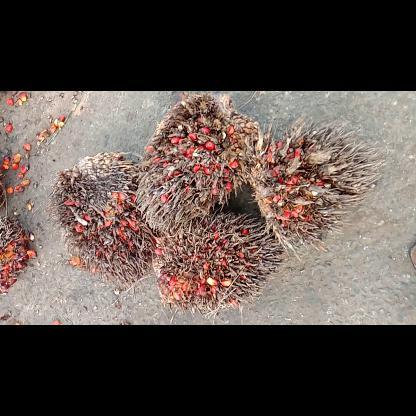Terlalu masak: (136, 90, 270, 240), (250, 123, 384, 257), (42, 146, 162, 288), (148, 204, 288, 314)
